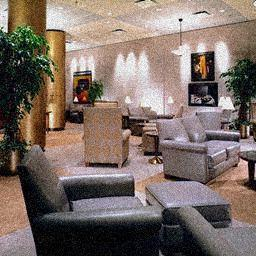Matera: (2, 25, 46, 174)
